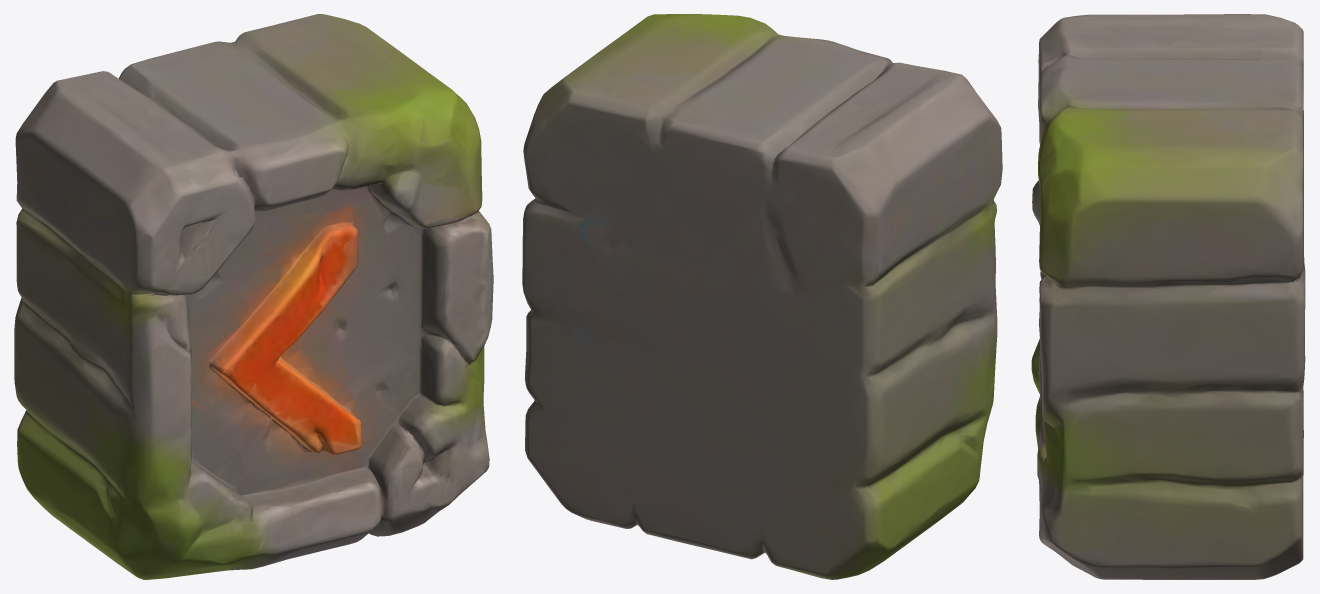
File: bloque_runa_roja.glb
The picture shows the model from 3 angles, left to right: view 1: azimuth 30°, elevation 25°; view 2: azimuth 150°, elevation 25°; view 3: azimuth 270°, elevation 25°; orthographic projection.
Parts seen in each view (by area): view 1: bloque_runa_roja_malla; view 2: bloque_runa_roja_malla; view 3: bloque_runa_roja_malla.
Part boxes in pixels (bbox=[...]): bloque_runa_roja_malla: bbox=[14, 14, 493, 579]; bloque_runa_roja_malla: bbox=[522, 14, 1002, 579]; bloque_runa_roja_malla: bbox=[1031, 14, 1305, 579].
Size of the model in its own units: 0.1549 by 0.1776 by 0.1034.
Materials: 1 (1 with a texture image).
